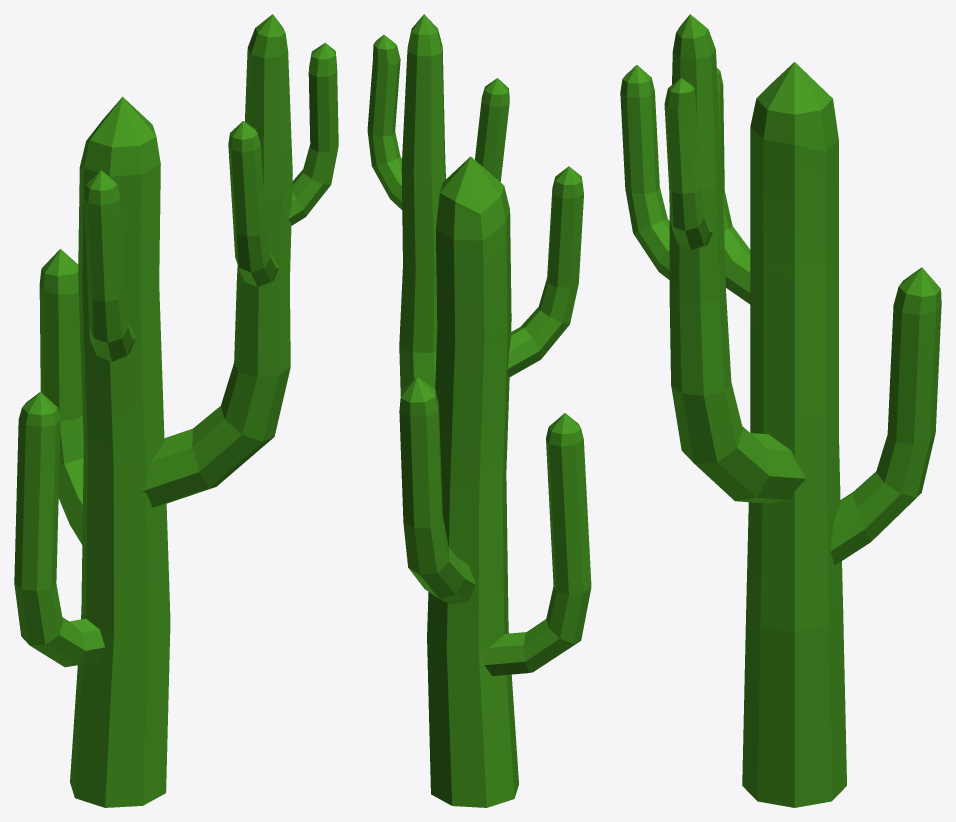
Rendered from Cactus_DarkGreen_1.fbx.
The picture shows the model from 3 angles, left to right: view 1: azimuth 30°, elevation 25°; view 2: azimuth 150°, elevation 25°; view 3: azimuth 270°, elevation 25°; orthographic projection. The views are drawn at different scales.
Parts seen in each view (by area): view 1: Cactus; view 2: Cactus; view 3: Cactus.
Boxes of the visible parts, box(x1,y1,x2,y2) form: Cactus: box(14, 14, 338, 807); Cactus: box(367, 14, 591, 807); Cactus: box(620, 14, 941, 807).
Size of the model in its own units: 157 by 421 by 148.
